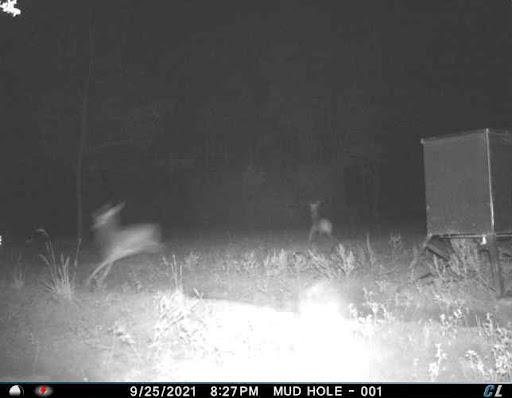Deer: (75, 193, 169, 291), (300, 195, 335, 250)
